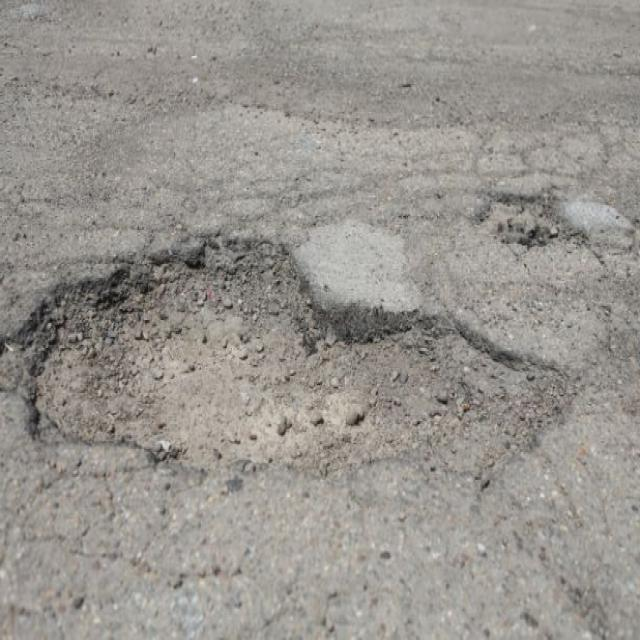Pothole: (21, 227, 579, 477)
